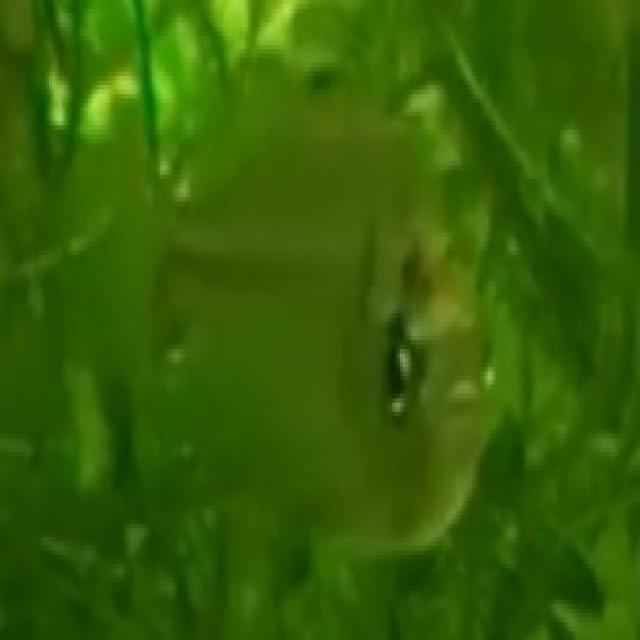Glass-Perchlet: (93, 65, 520, 586)
